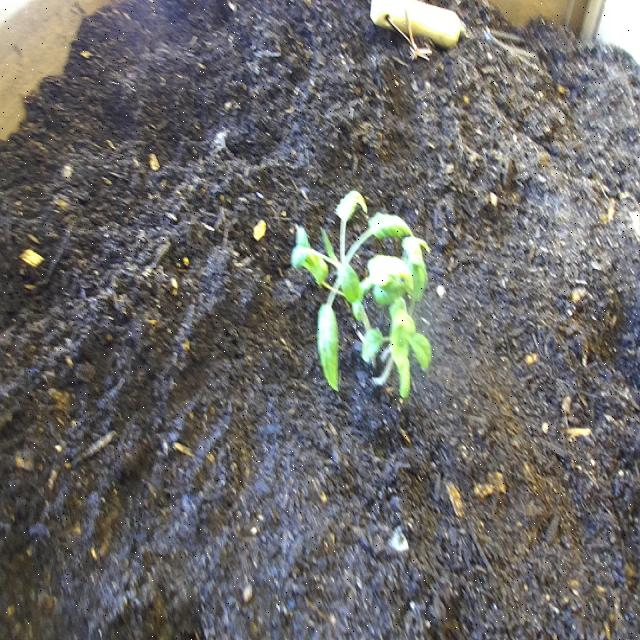Healthy: (292, 187, 430, 417)
